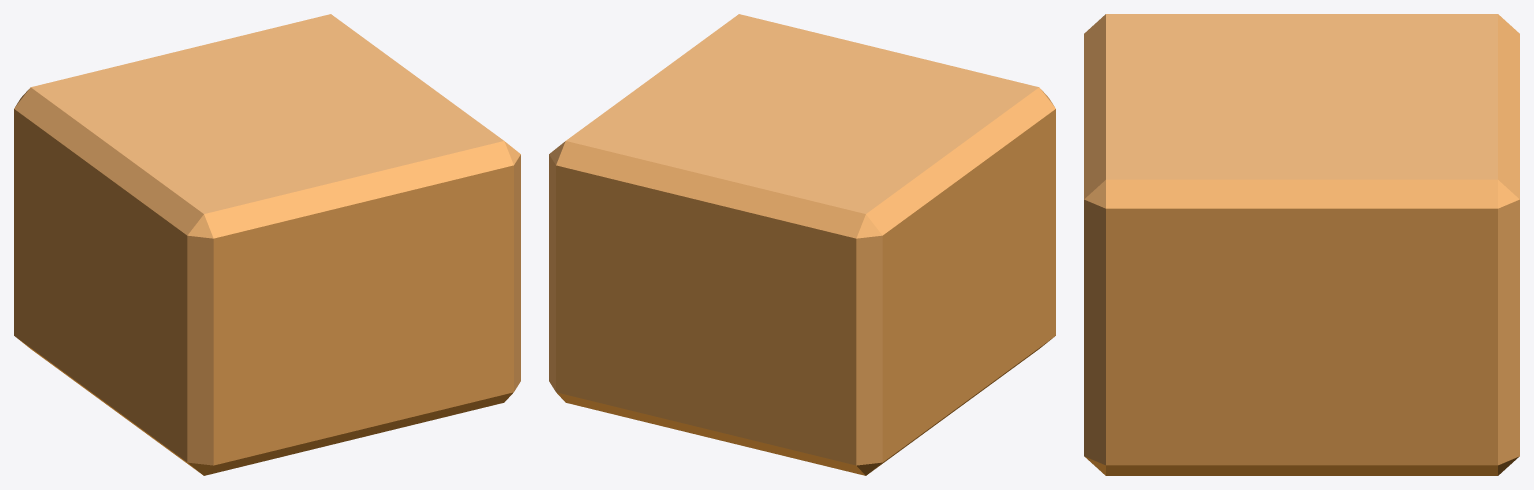
The model's file is m_kub_clay_cubeMid.FBX.
The picture shows the model from 3 angles, left to right: view 1: azimuth 30°, elevation 25°; view 2: azimuth 150°, elevation 25°; view 3: azimuth 270°, elevation 25°; orthographic projection. The views are drawn at different scales.
Visible parts, largest first — view 1: m_kub_clay_cubeMid; view 2: m_kub_clay_cubeMid; view 3: m_kub_clay_cubeMid.
Boxes of the visible parts, <box> form: m_kub_clay_cubeMid: <box>14,14,520,475</box>; m_kub_clay_cubeMid: <box>549,14,1055,475</box>; m_kub_clay_cubeMid: <box>1084,14,1519,475</box>.
Size of the model in its own units: 2 by 1.5 by 2.
